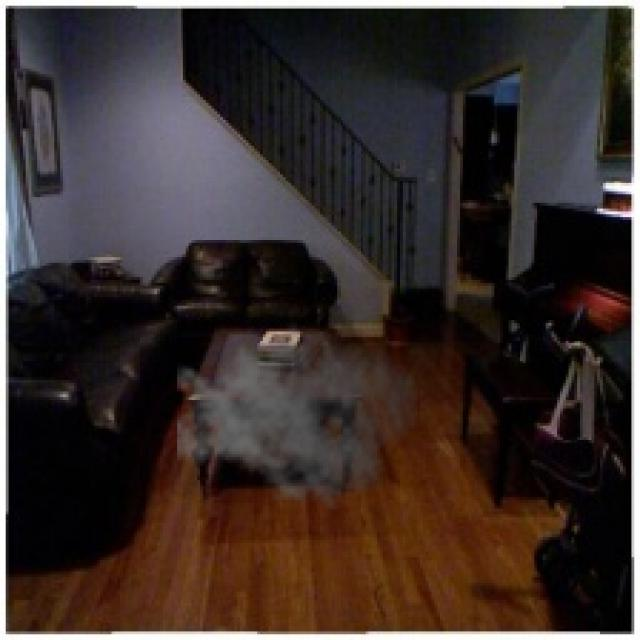smoke: (177, 312, 420, 512)
